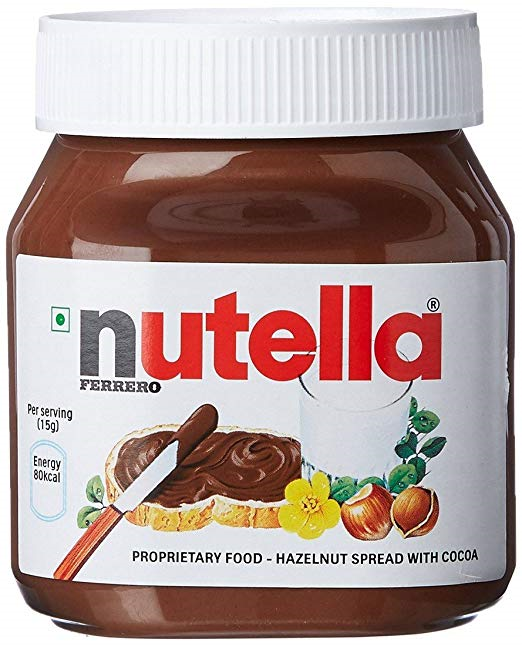nutella: (6, 2, 515, 639)
